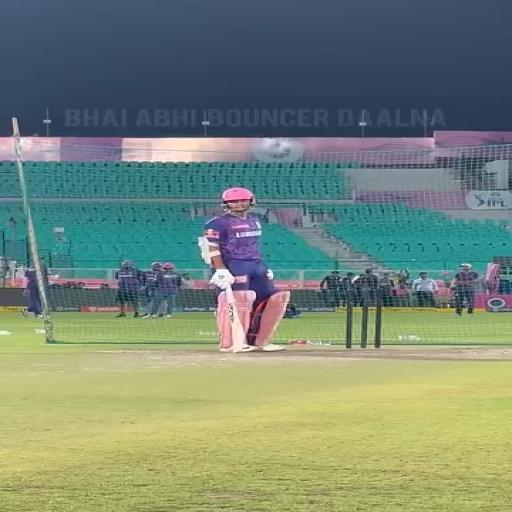Cricket bat: (226, 287, 245, 353)
